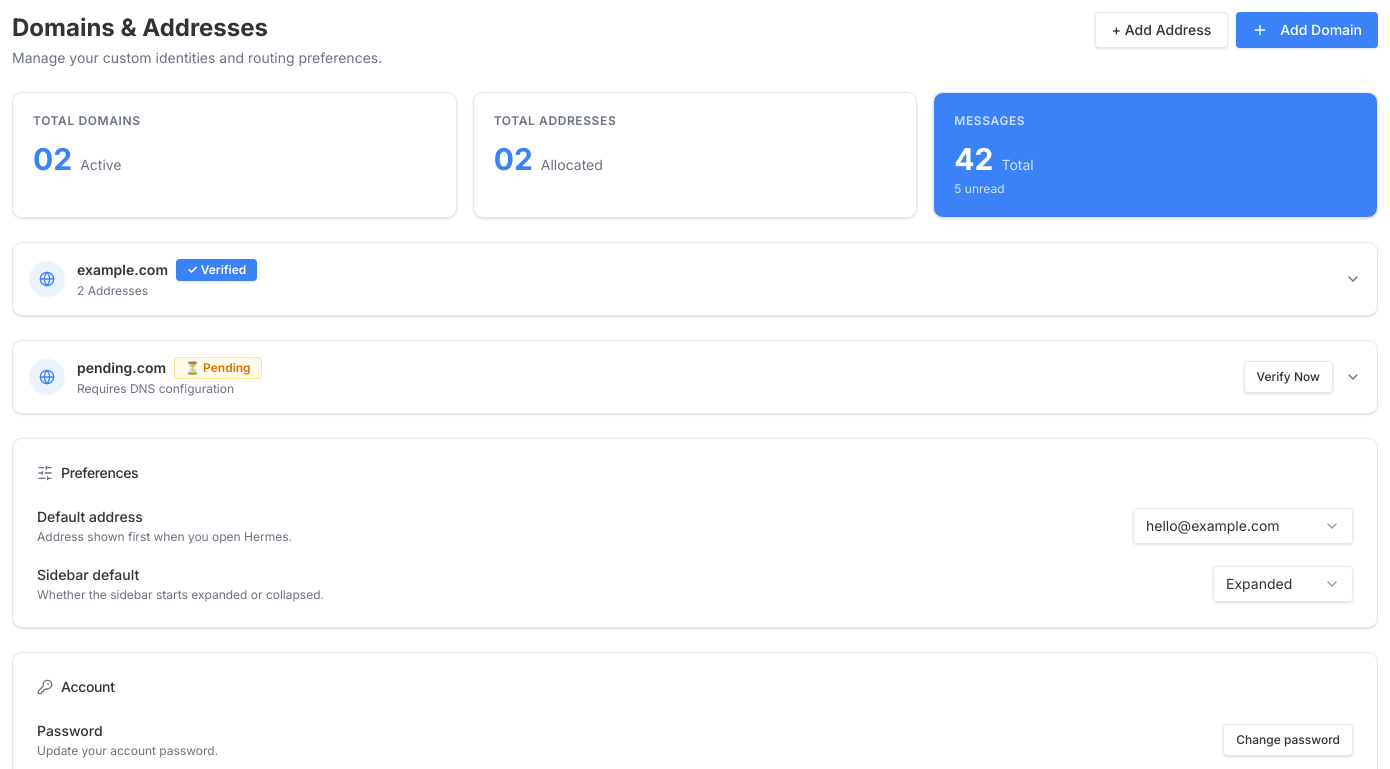
Scenario: SettingsView › address display name › clicking edit shows input pre-filled with current displayName
This screenshot has width=1390, height=769.
Step 1. Click the button with test id "domain-row-example.com" → (47, 279), box [13,243,1377,315]
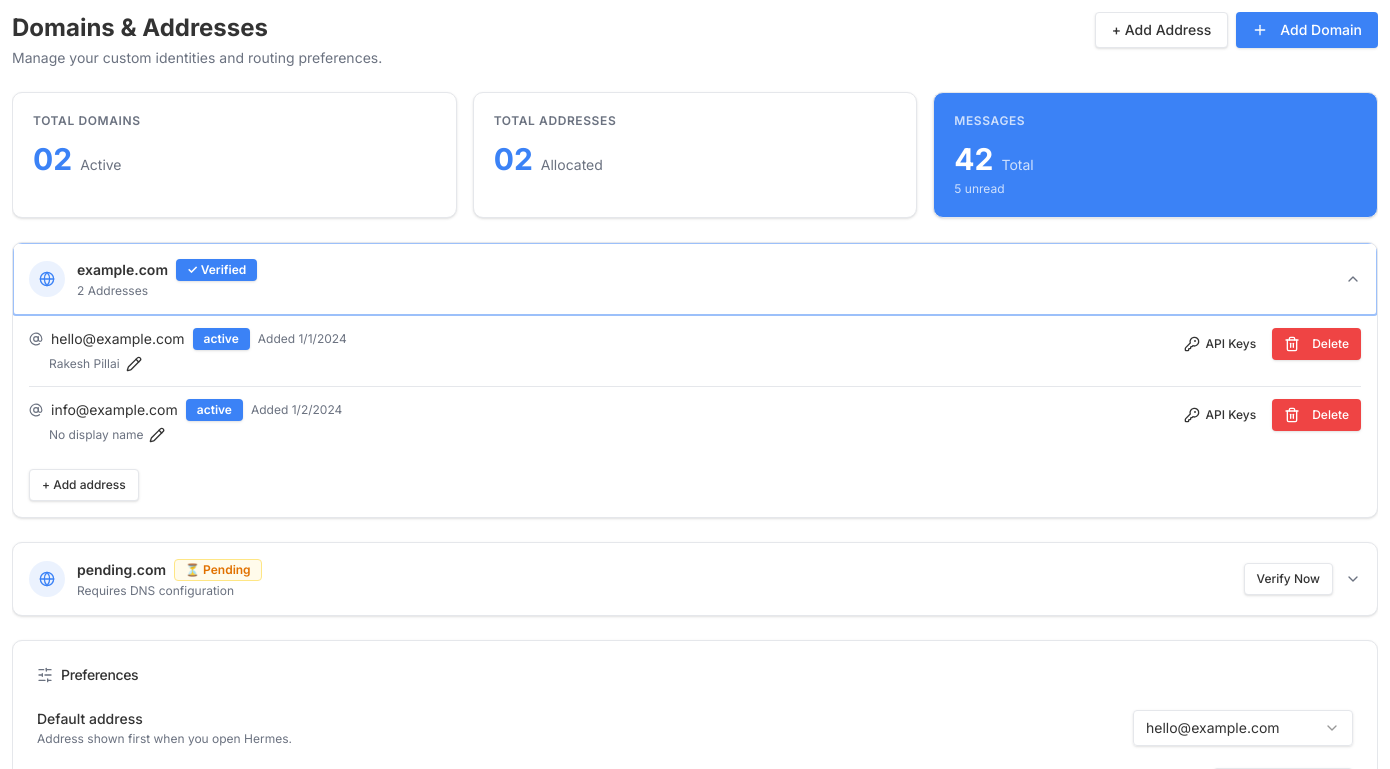
Step 2. Click the button with test id "display-name-edit-hello@example.com" → (134, 364), box [124,354,144,374]
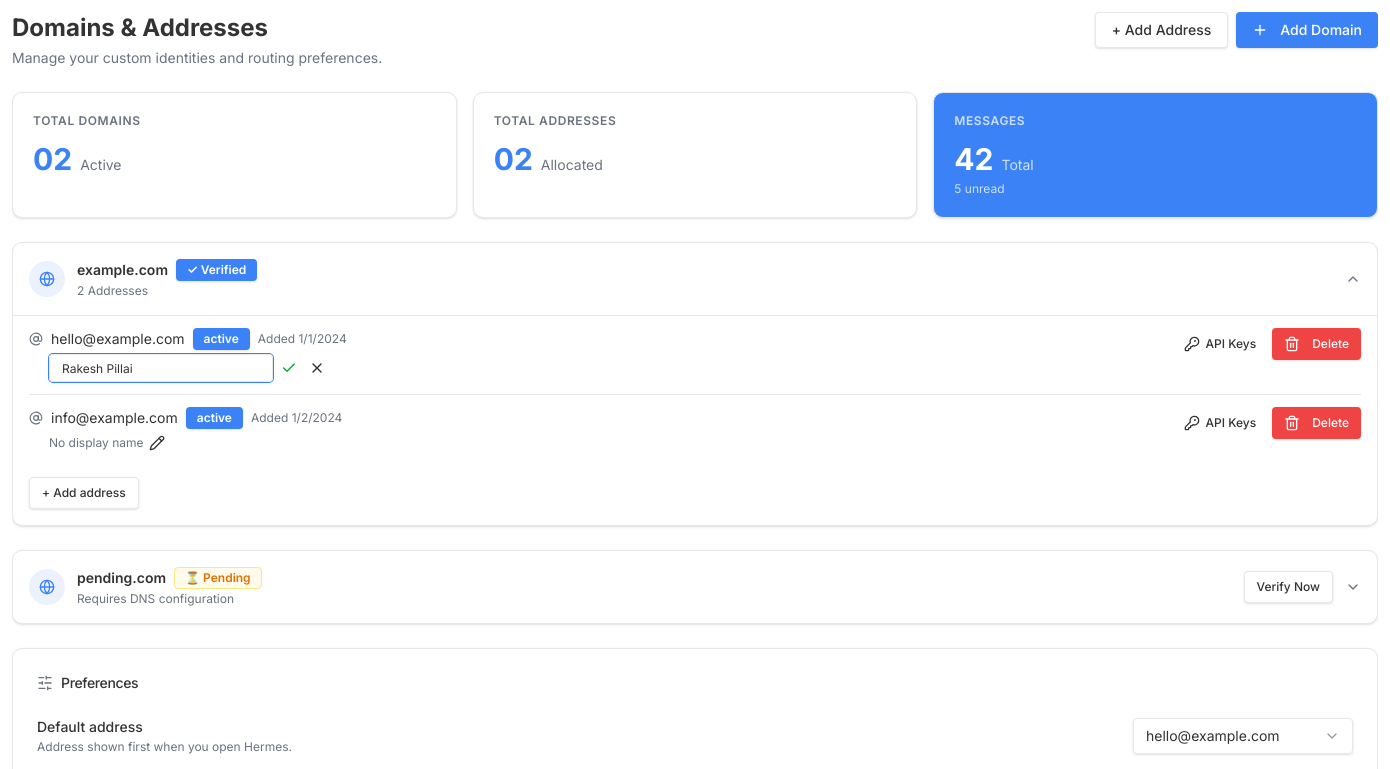
Expected: the field with test id "display-name-input-hello@example.com" holds "Rakesh Pillai", [49,354,273,382]
